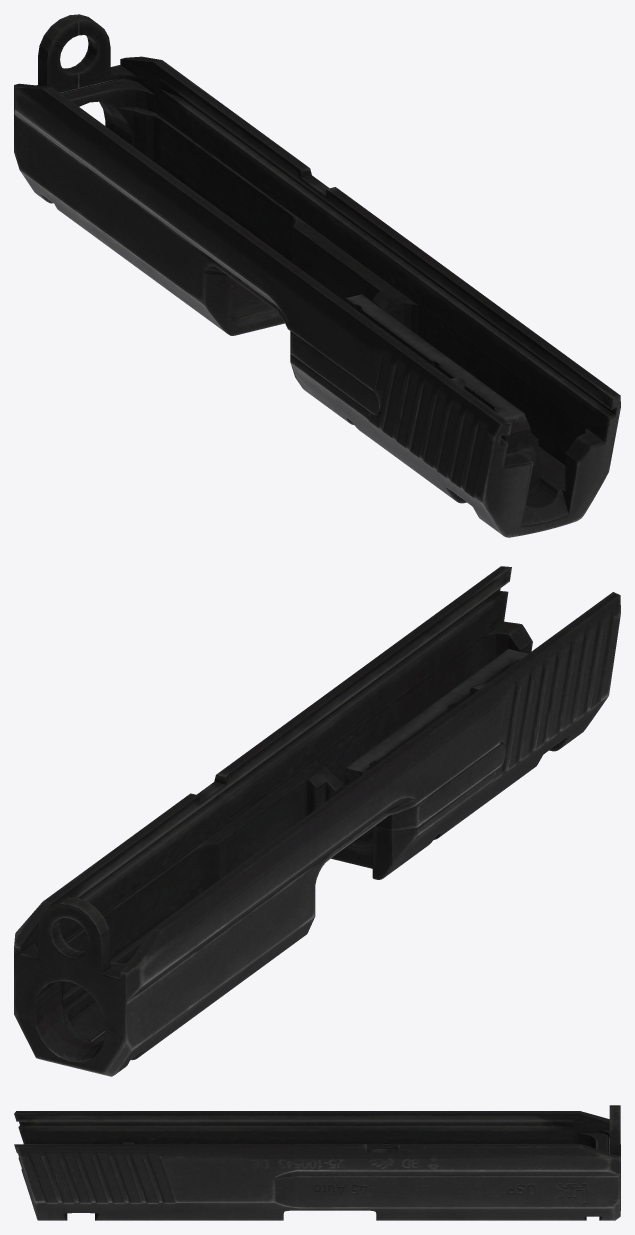
3 views of the same model, one above another, from view 1: azimuth 30°, elevation 25°; view 2: azimuth 150°, elevation 25°; view 3: azimuth 270°, elevation 25° (orthographic). The views are drawn at different scales.
Visible parts, largest first — view 1: TW_6193d382ed0429009f543e65_PZ_Import; view 2: TW_6193d382ed0429009f543e65_PZ_Import; view 3: TW_6193d382ed0429009f543e65_PZ_Import.
Boxes of the visible parts, bbox=[...] form: TW_6193d382ed0429009f543e65_PZ_Import: bbox=[14, 14, 620, 537]; TW_6193d382ed0429009f543e65_PZ_Import: bbox=[14, 566, 620, 1076]; TW_6193d382ed0429009f543e65_PZ_Import: bbox=[14, 1105, 620, 1220].
Size of the model in its own units: 0.0167 by 0.1123 by 0.0211.
Materials: 1 (1 with a texture image).
